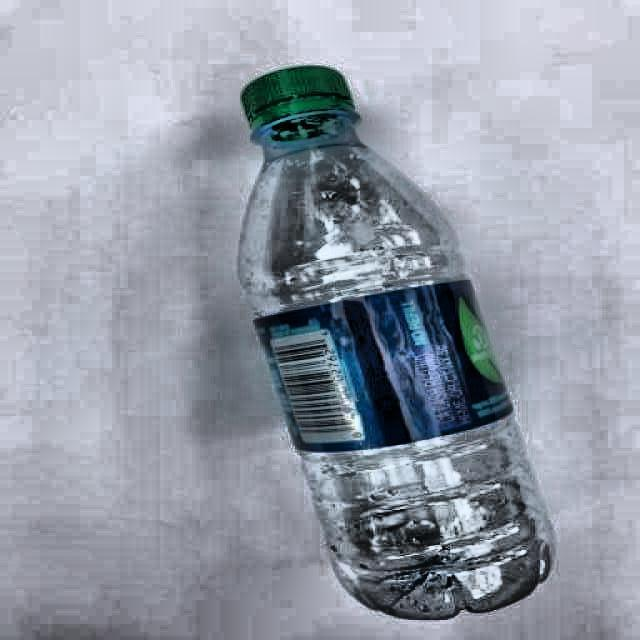plastic: (239, 66, 551, 619)
